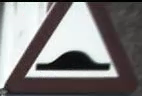Speed Breaker ahead: (18, 3, 119, 88)
